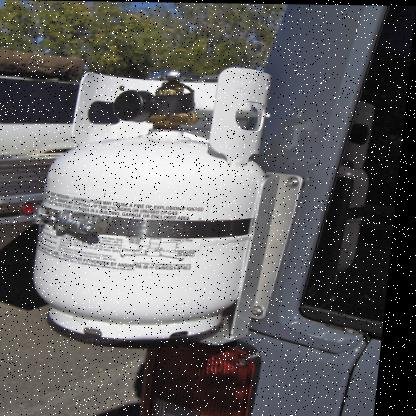gas-tank: (20, 59, 293, 355)
